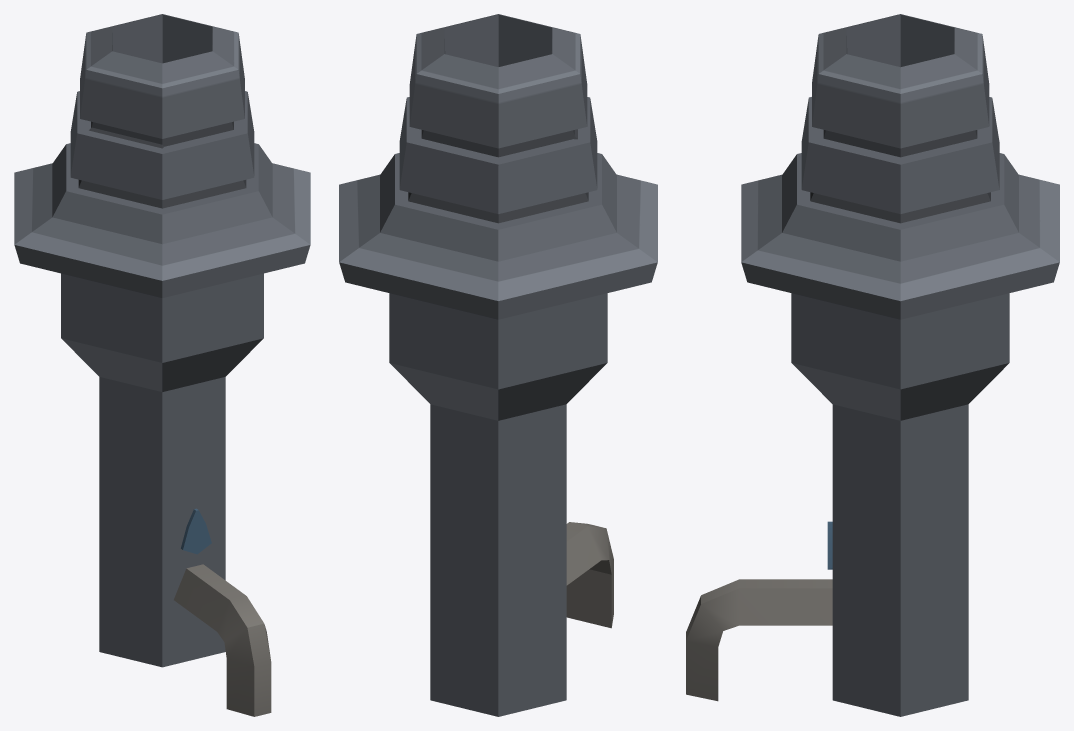
File: SM_Prop_Sprinkler_02.fbx
The picture shows the model from 3 angles, left to right: view 1: azimuth 30°, elevation 25°; view 2: azimuth 150°, elevation 25°; view 3: azimuth 270°, elevation 25°; orthographic projection. The views are drawn at different scales.
Visible parts, largest first — view 1: SM_Prop_Sprinkler_02; view 2: SM_Prop_Sprinkler_02; view 3: SM_Prop_Sprinkler_02.
Part boxes in pixels (x1,y1,x2,y2): SM_Prop_Sprinkler_02: (14, 14, 310, 716); SM_Prop_Sprinkler_02: (339, 14, 657, 716); SM_Prop_Sprinkler_02: (686, 14, 1059, 716).
Bounding box in the file's own units: 21.8 × 42.41 × 22.15.
